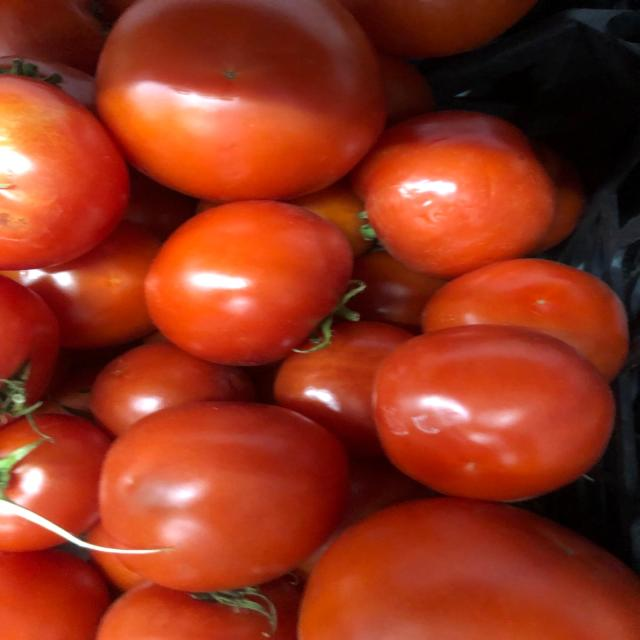tomato: (89, 392, 356, 599), (361, 318, 620, 510), (142, 186, 370, 371), (341, 102, 564, 279)
